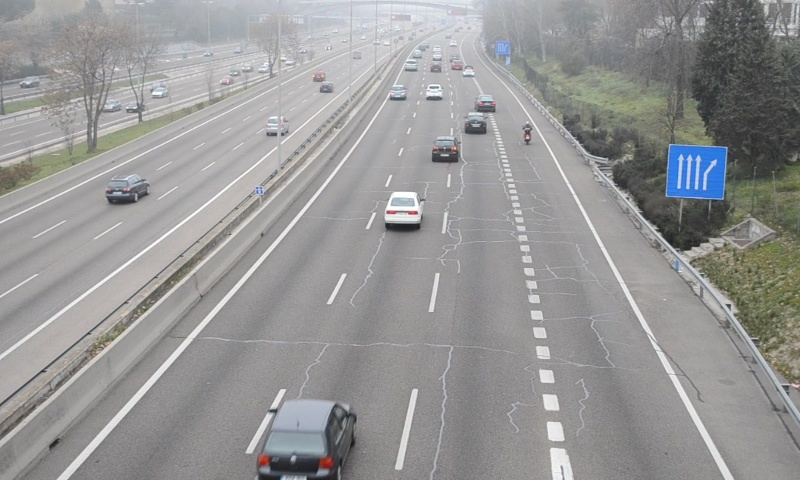car: (256, 398, 354, 480), (385, 190, 424, 224), (432, 136, 460, 162), (464, 112, 487, 134), (476, 94, 498, 112), (425, 83, 444, 100), (388, 84, 406, 100)
motorcycle: (522, 121, 534, 146)
